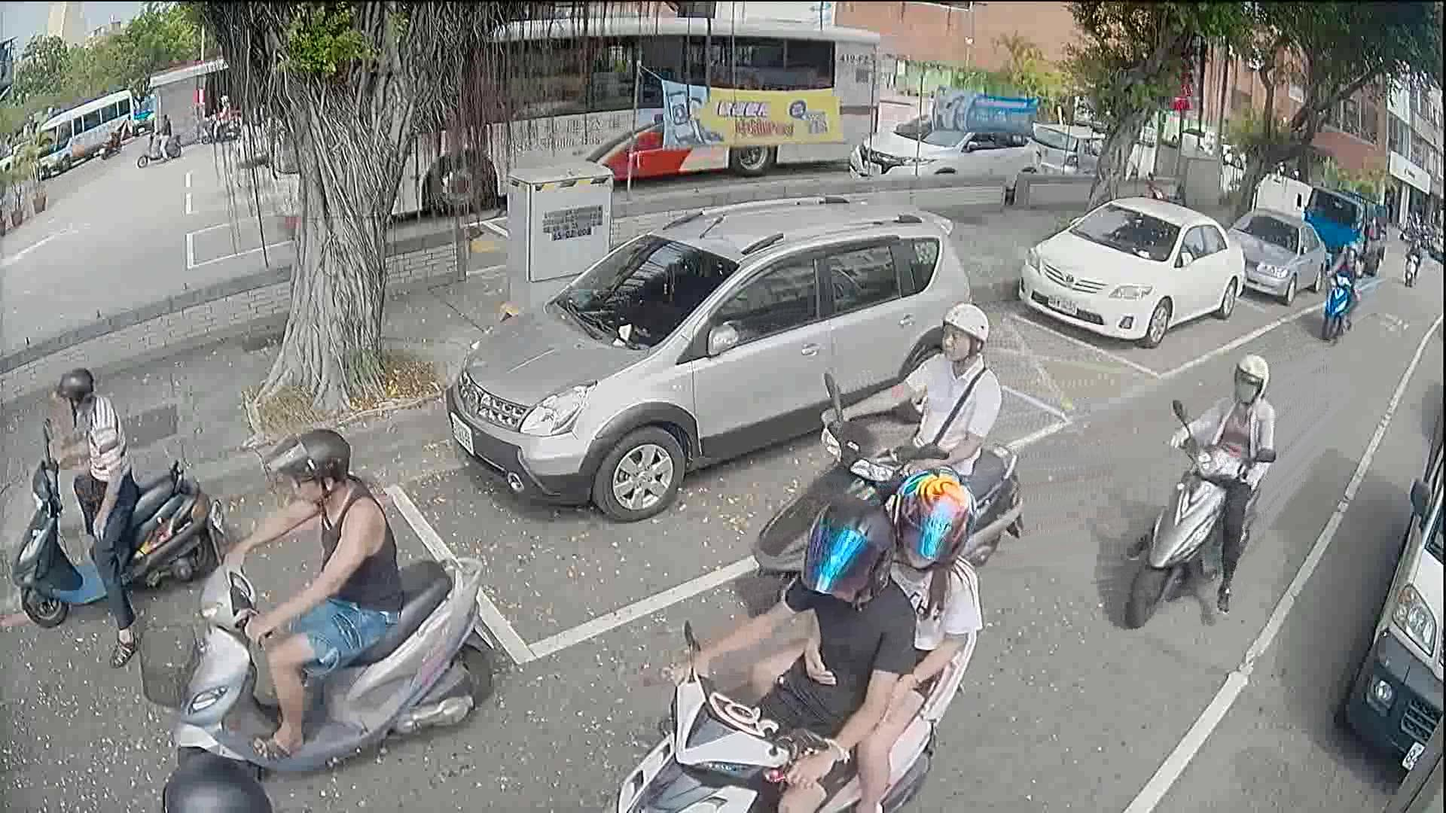person: (752, 438, 995, 811), (647, 480, 913, 812), (214, 423, 403, 769), (1134, 346, 1277, 614), (825, 294, 1005, 496), (38, 369, 137, 651), (160, 744, 274, 811), (1323, 243, 1362, 336), (151, 113, 172, 160), (99, 130, 112, 145)
